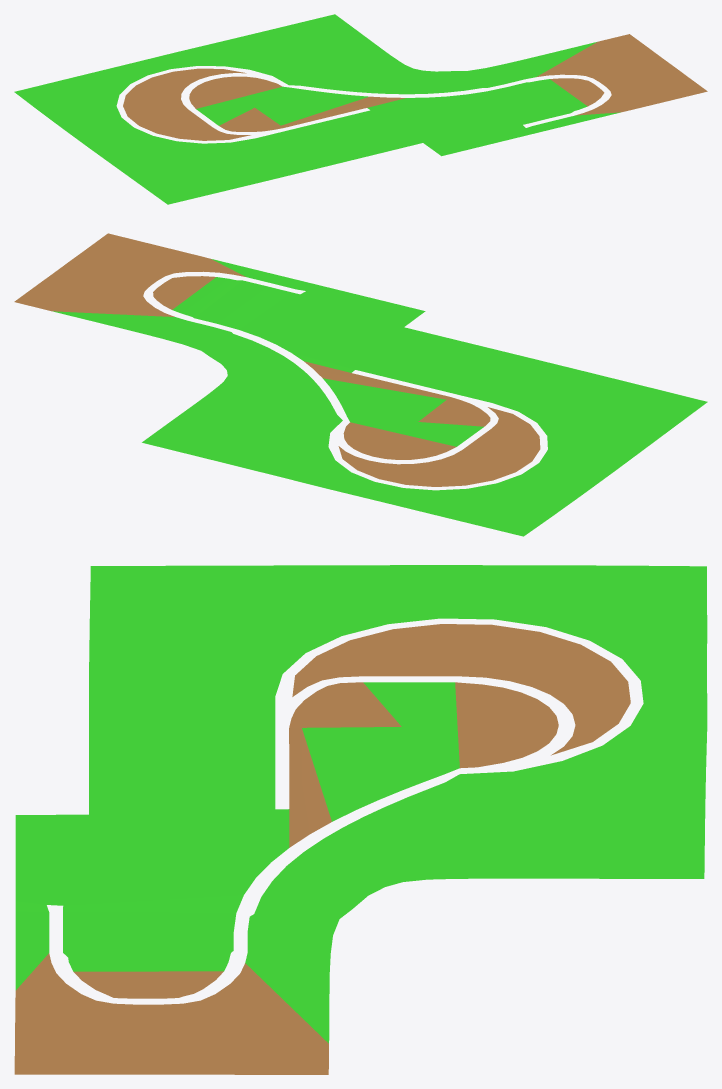
Rendered from Exterior.fbx.
3 renders of one model, top to bottom at view 1: azimuth 30°, elevation 25°; view 2: azimuth 150°, elevation 25°; view 3: azimuth 270°, elevation 25°, orthographic. The views are drawn at different scales.
Parts seen in each view (by area): view 1: Exterior; view 2: Exterior; view 3: Exterior.
Part boxes in pixels (x1=…): Exterior: x1=14, y1=14, x2=707, y2=204; Exterior: x1=14, y1=233, x2=707, y2=536; Exterior: x1=14, y1=565, x2=707, y2=1074.
Bounding box in the file's own units: 784 × 0.2383 × 450.
